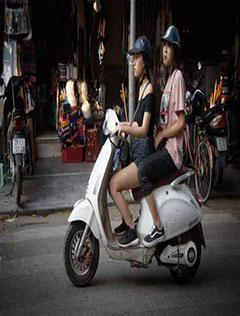motorcycle: (51, 91, 214, 295), (4, 96, 43, 210), (194, 102, 229, 201)
